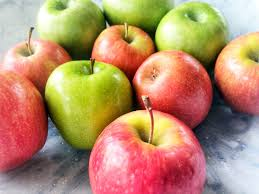apple: (90, 112, 209, 193), (50, 62, 132, 149), (132, 49, 212, 113), (2, 67, 48, 163), (158, 5, 224, 59), (215, 33, 259, 108), (37, 1, 100, 46), (94, 26, 154, 73), (6, 40, 71, 82)
